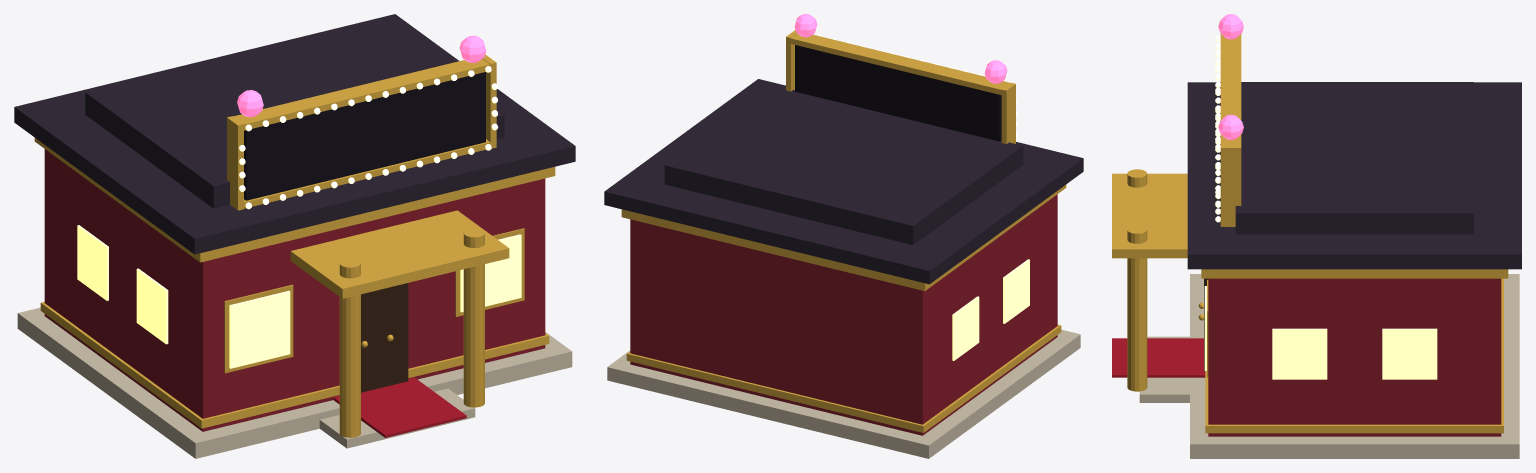
Rendered from casino_lite.glb.
3 renders of one model, left to right at view 1: azimuth 30°, elevation 25°; view 2: azimuth 150°, elevation 25°; view 3: azimuth 270°, elevation 25°, orthographic. The views are drawn at different scales.
Visible parts, largest first — view 1: base; view 2: base; view 3: base.
Boxes of the visible parts, bbox=[...] form: base: bbox=[14, 14, 575, 458]; base: bbox=[604, 14, 1083, 458]; base: bbox=[1112, 14, 1521, 458].
Size of the model in its own units: 8.9 by 7.43 by 8.95.
